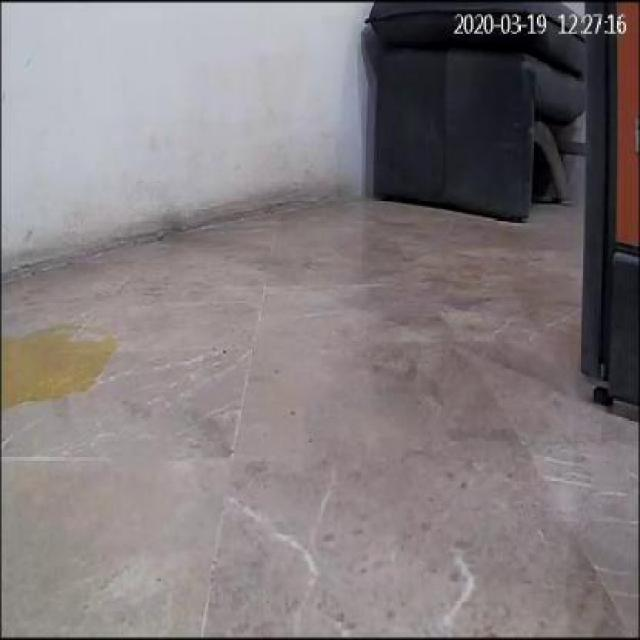spill: (4, 329, 114, 409)
